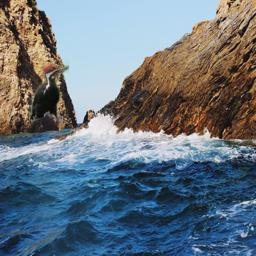Woodpecker: (29, 61, 69, 123)
